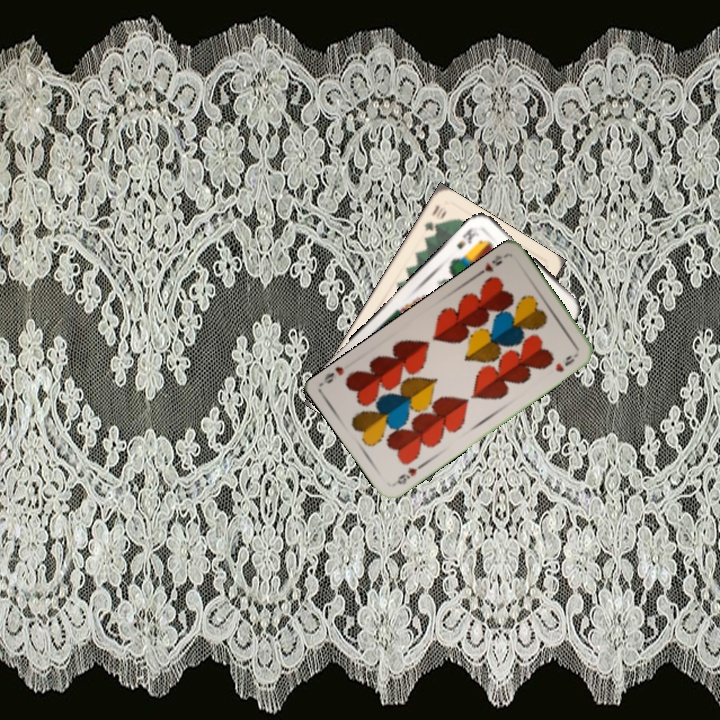EK: (453, 223, 482, 252)
G10: (420, 201, 449, 234)
H9: (473, 251, 509, 279), (391, 463, 419, 488)
